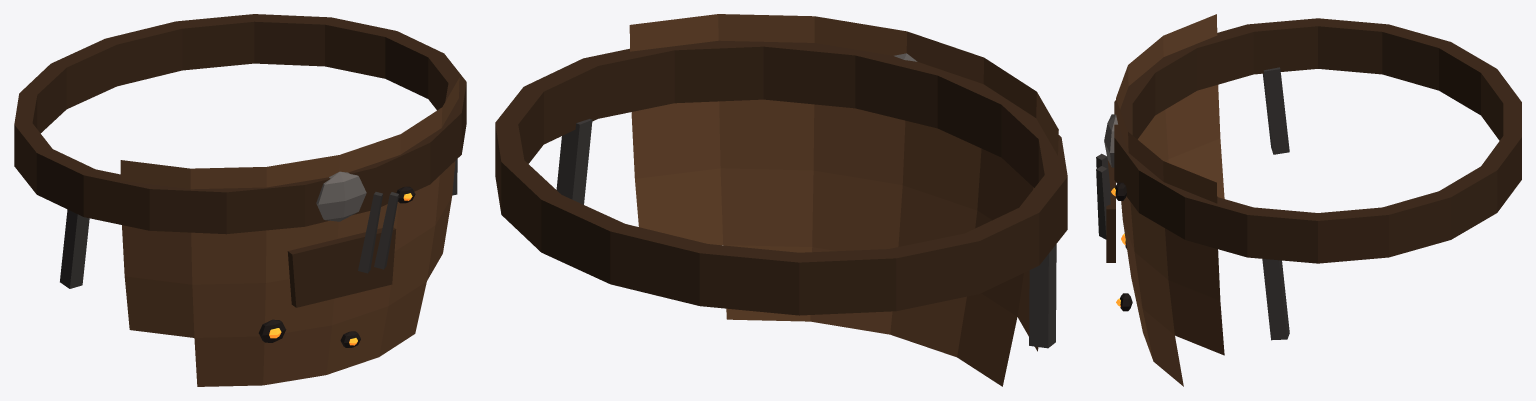
The model's file is ember_giant_apron.glb.
3 renders of one model, left to right at view 1: azimuth 30°, elevation 25°; view 2: azimuth 150°, elevation 25°; view 3: azimuth 270°, elevation 25°, orthographic. The views are drawn at different scales.
Visible parts, largest first — view 1: ember_giant_apron; view 2: ember_giant_apron; view 3: ember_giant_apron.
Boxes of the visible parts, bbox=[...] form: ember_giant_apron: bbox=[14, 14, 466, 386]; ember_giant_apron: bbox=[495, 14, 1067, 386]; ember_giant_apron: bbox=[1096, 14, 1521, 386].
Size of the model in its own units: 1.02 by 0.55 by 0.9053.
